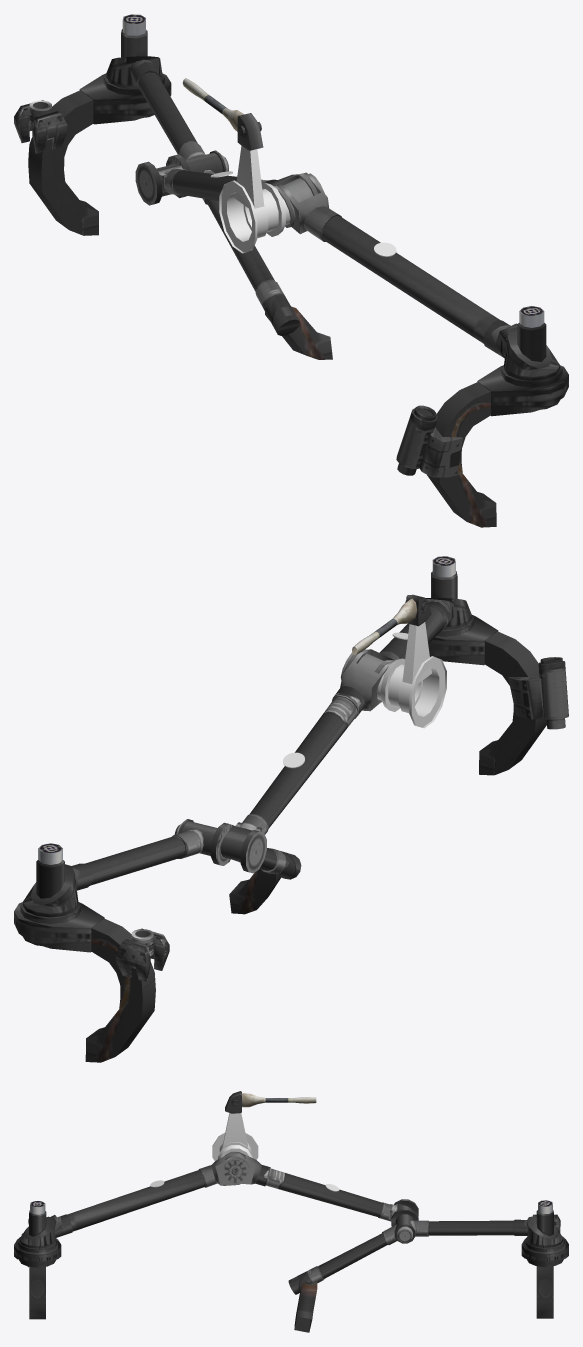
File: curiosity_clean_suspension_left.glb
3 views of the same model, one above another, from view 1: azimuth 30°, elevation 25°; view 2: azimuth 150°, elevation 25°; view 3: azimuth 270°, elevation 25° (orthographic). The views are drawn at different scales.
Parts seen in each view (by area): view 1: showme_suspension_arm_F_L, showme_suspension_arm_B2_L, showme_suspension_steer_F_L, showme_suspension_steer_B_L, showme_suspension_axel_L, showme_suspension_arm_B_L, showme_suspension_rod_L; view 2: showme_suspension_arm_B2_L, showme_suspension_steer_B_L, showme_suspension_steer_F_L, showme_suspension_arm_B_L, showme_suspension_axel_L, showme_suspension_arm_F_L, showme_suspension_rod_L; view 3: showme_suspension_arm_B2_L, showme_suspension_arm_F_L, showme_suspension_arm_B_L, showme_suspension_steer_B_L, showme_suspension_steer_F_L, showme_suspension_axel_L, showme_suspension_rod_L, showme_suspension_axel_L2.
Boxes of the visible parts, x1=… form: showme_suspension_arm_F_L: x1=277, y1=172, x2=559, y2=380; showme_suspension_arm_B2_L: x1=106, y1=14, x2=332, y2=359; showme_suspension_steer_F_L: x1=396, y1=364, x2=568, y2=527; showme_suspension_steer_B_L: x1=14, y1=73, x2=171, y2=235; showme_suspension_axel_L: x1=219, y1=146, x2=290, y2=253; showme_suspension_arm_B_L: x1=156, y1=164, x2=317, y2=227; showme_suspension_rod_L: x1=182, y1=78, x2=263, y2=150; showme_suspension_arm_B2_L: x1=23, y1=819, x2=301, y2=917; showme_suspension_steer_B_L: x1=14, y1=902, x2=169, y2=1062; showme_suspension_steer_F_L: x1=428, y1=615, x2=568, y2=775; showme_suspension_arm_B_L: x1=221, y1=649, x2=392, y2=861; showme_suspension_axel_L: x1=377, y1=622, x2=446, y2=728; showme_suspension_arm_F_L: x1=343, y1=556, x2=471, y2=673; showme_suspension_rod_L: x1=352, y1=594, x2=431, y2=655; showme_suspension_arm_B2_L: x1=288, y1=1199, x2=563, y2=1332; showme_suspension_arm_F_L: x1=19, y1=1153, x2=249, y2=1248; showme_suspension_arm_B_L: x1=225, y1=1151, x2=412, y2=1221; showme_suspension_steer_B_L: x1=521, y1=1214, x2=568, y2=1318; showme_suspension_steer_F_L: x1=14, y1=1219, x2=61, y2=1319; showme_suspension_axel_L: x1=212, y1=1113, x2=258, y2=1161; showme_suspension_rod_L: x1=225, y1=1091, x2=316, y2=1113; showme_suspension_axel_L2: x1=223, y1=1154, x2=247, y2=1182.
Bounding box in the file's own units: 0.1143 × 0.1983 × 0.5002.
Materials: 4 (2 with a texture image).
